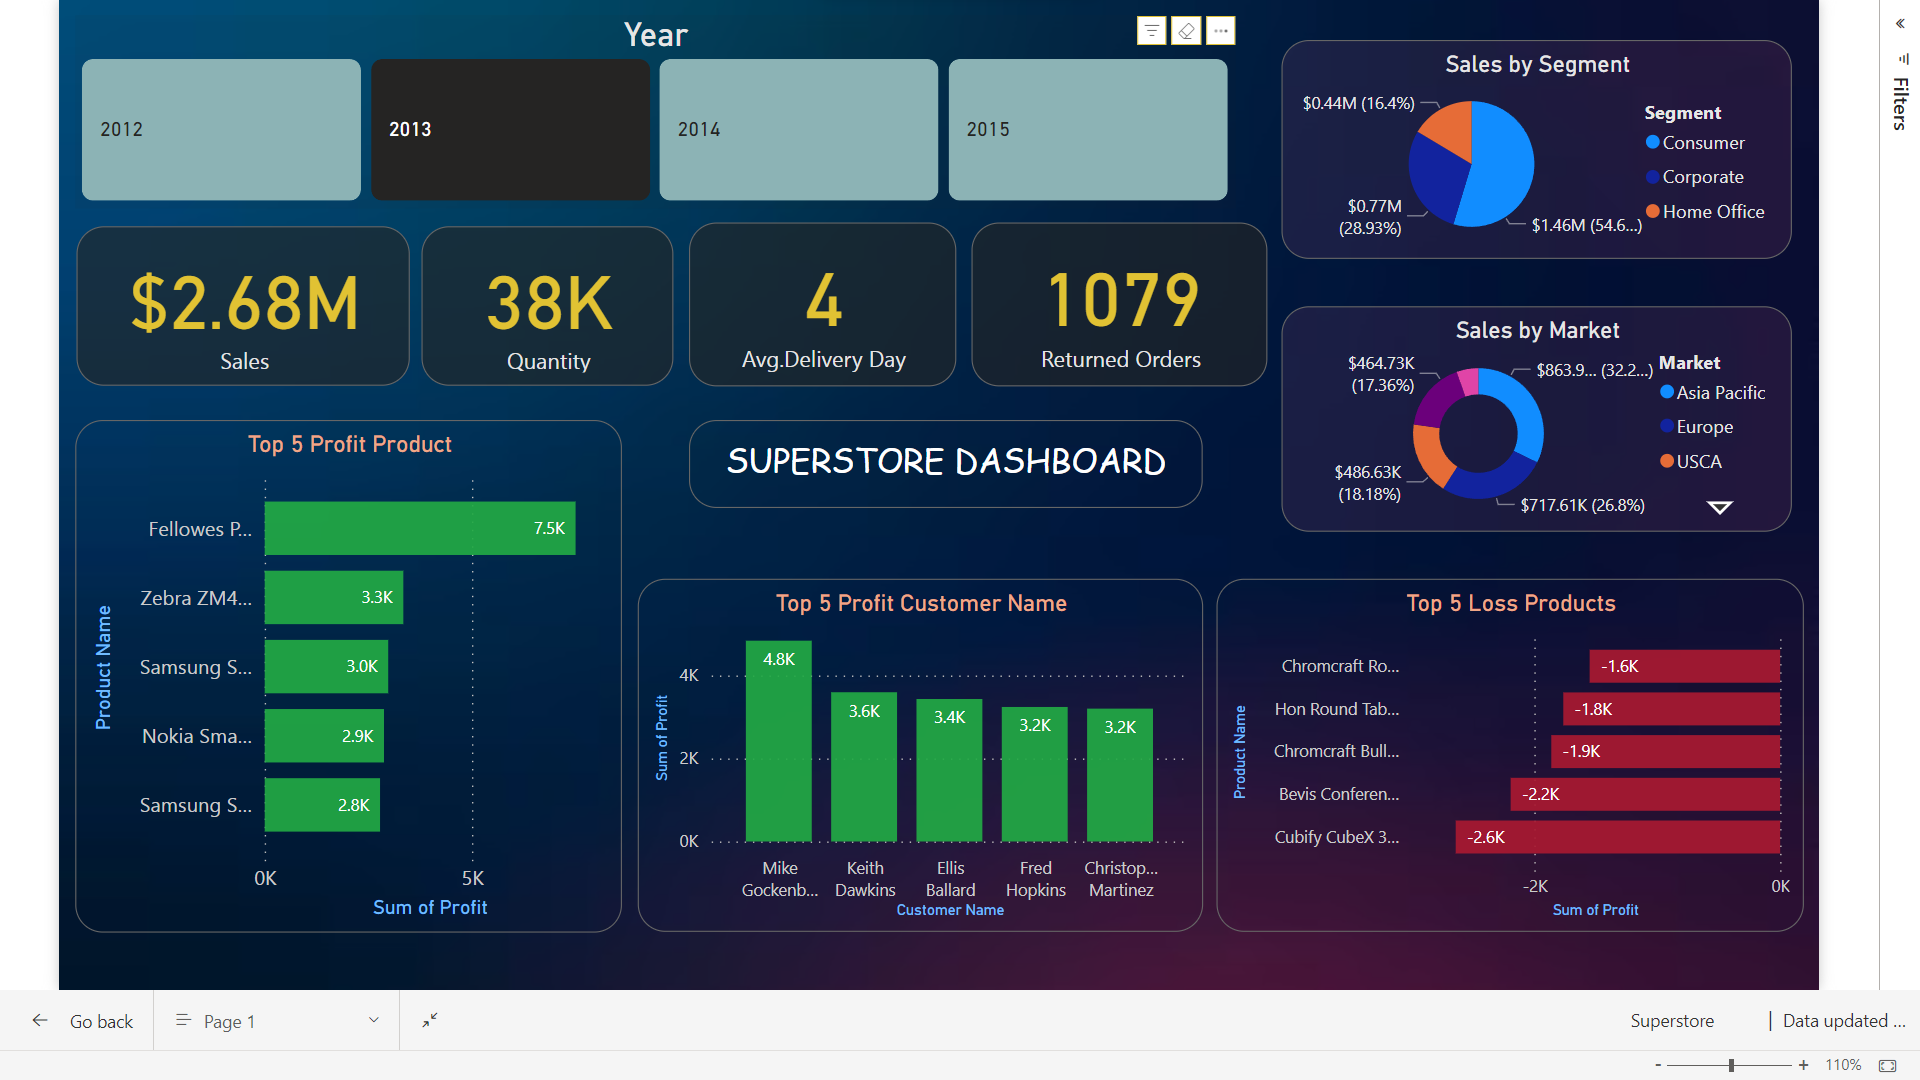

The dashboard page shown, as its layout file describes it:
{"tool":"powerbi","page":{"name":"Page 1","canvas":[1280,720],"ordinal":0},"visuals":[{"type":"card","fields":{"Values":["Sum(Orders.Sales)"]},"box":[12.1,165.2,242.4,115.8],"z":0},{"type":"card","fields":{"Values":["Sum(Orders.Quantity)"]},"box":[262.9,165.2,183.3,115.8],"z":1000},{"type":"card","fields":{"Values":["Avg(Orders.Delivery Days)"]},"box":[458.3,165.2,194.2,118.2],"z":2000},{"type":"advancedSlicerVisual","title":"Year","fields":{"Values":["Orders.Order Year"]},"box":[12.1,10.9,844.2,141.1],"z":3000},{"type":"card","fields":{"Values":["Sum(Returns.Returned Column)"]},"box":[663.3,162.8,215.9,118.2],"z":4000},{"type":"barChart","title":"Top 5 Profit Product","fields":{"Category":["Orders.Product Name"],"Y":["Sum(Orders.Profit)"]},"box":[12.1,305.1,398,372.7],"z":5000},{"type":"barChart","title":"Top 5 Loss Products","fields":{"Category":["Orders.Product Name"],"Y":["Sum(Orders.Profit)"]},"box":[841.8,420.9,426.9,256.9],"z":6000},{"type":"pieChart","title":"Sales by Segment","fields":{"Category":["Orders.Segment"],"Y":["Sum(Orders.Sales)"]},"box":[888.8,28.9,371.5,159.2],"z":7000},{"type":"donutChart","title":"Sales by Market","fields":{"Y":["Sum(Orders.Sales)"],"Category":["Orders.Market"]},"box":[888.8,223.1,371.5,164],"z":8000},{"type":"columnChart","title":"Top 5 Profit Customer Name","fields":{"Category":["Orders.Customer Name"],"Y":["Sum(Orders.Profit)"]},"box":[420.9,420.9,411.3,256.9],"z":9000},{"type":"textbox","box":[458.3,305.1,373.9,63.9],"z":10000}]}

Visuals, with their boxes on the page's 1280x720 design canvas (x1, y1, x2, y2). These are canvas units, not pixel positions in the 1920x1080 screenshot, which may show the page scaled, cropped or inside an application window:
card - Sum(Orders.Sales): [x1=12, y1=165, x2=254, y2=281]
card - Sum(Orders.Quantity): [x1=263, y1=165, x2=446, y2=281]
card - Avg(Orders.Delivery Days): [x1=458, y1=165, x2=652, y2=283]
"Year" advancedSlicerVisual: [x1=12, y1=11, x2=856, y2=152]
card - Sum(Returns.Returned Column): [x1=663, y1=163, x2=879, y2=281]
"Top 5 Profit Product" barChart: [x1=12, y1=305, x2=410, y2=678]
"Top 5 Loss Products" barChart: [x1=842, y1=421, x2=1269, y2=678]
"Sales by Segment" pieChart: [x1=889, y1=29, x2=1260, y2=188]
"Sales by Market" donutChart: [x1=889, y1=223, x2=1260, y2=387]
"Top 5 Profit Customer Name" columnChart: [x1=421, y1=421, x2=832, y2=678]
textbox: [x1=458, y1=305, x2=832, y2=369]
